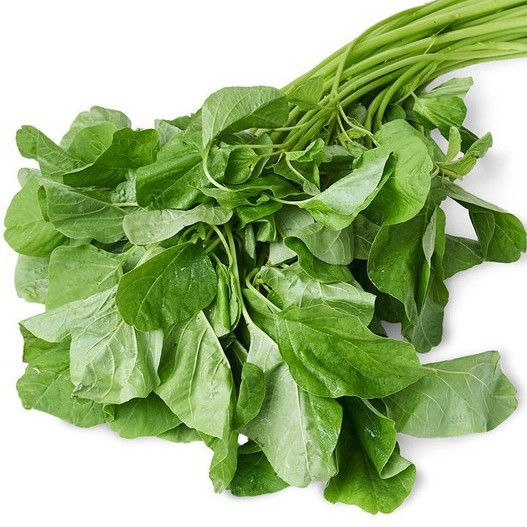Bayam: (1, 1, 527, 527)
